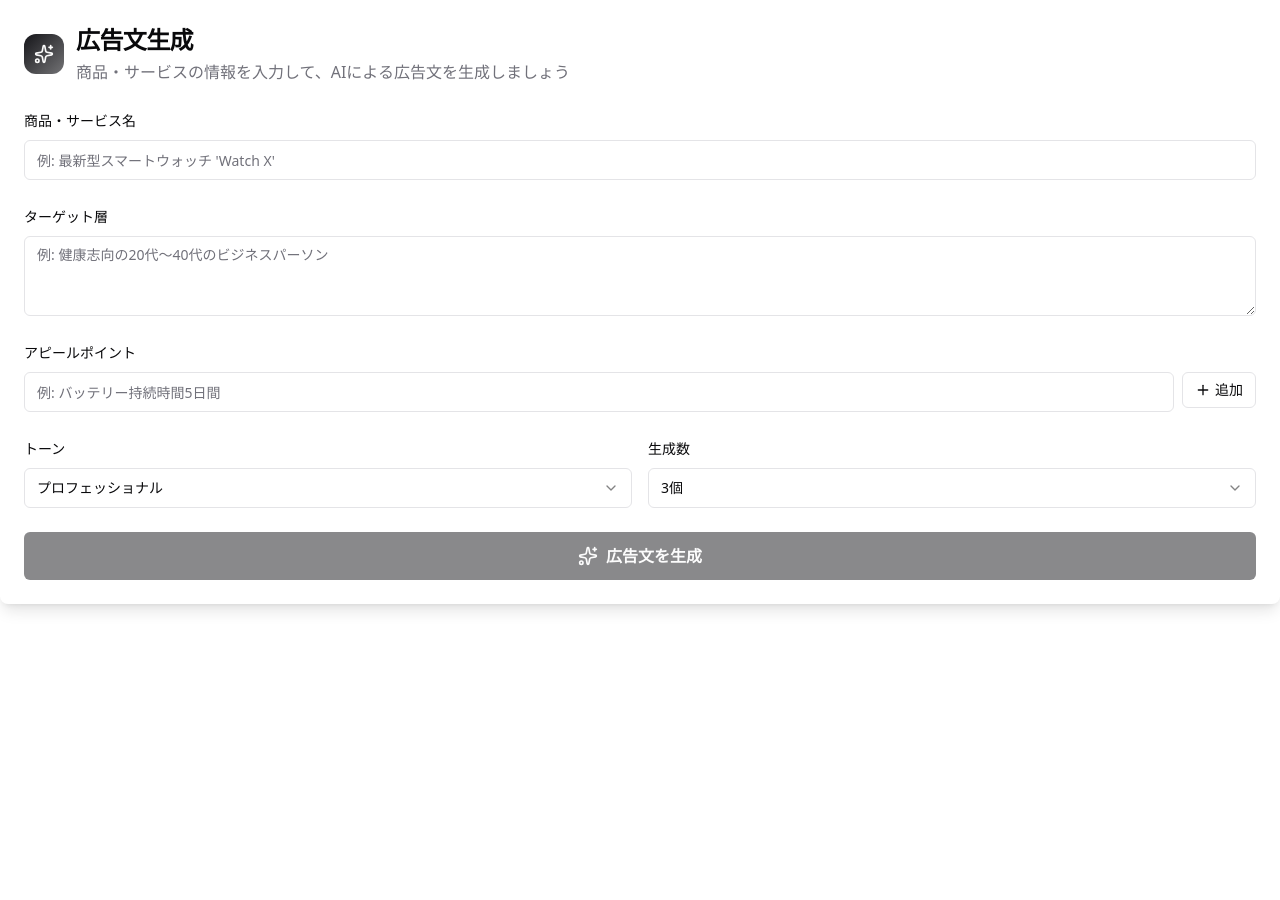
Test: AdGenerationForm › enables submit button when form is valid
Type "テスト商品" into the field labelled "商品・サービス名" at (640, 160), box [24,140,1256,180]
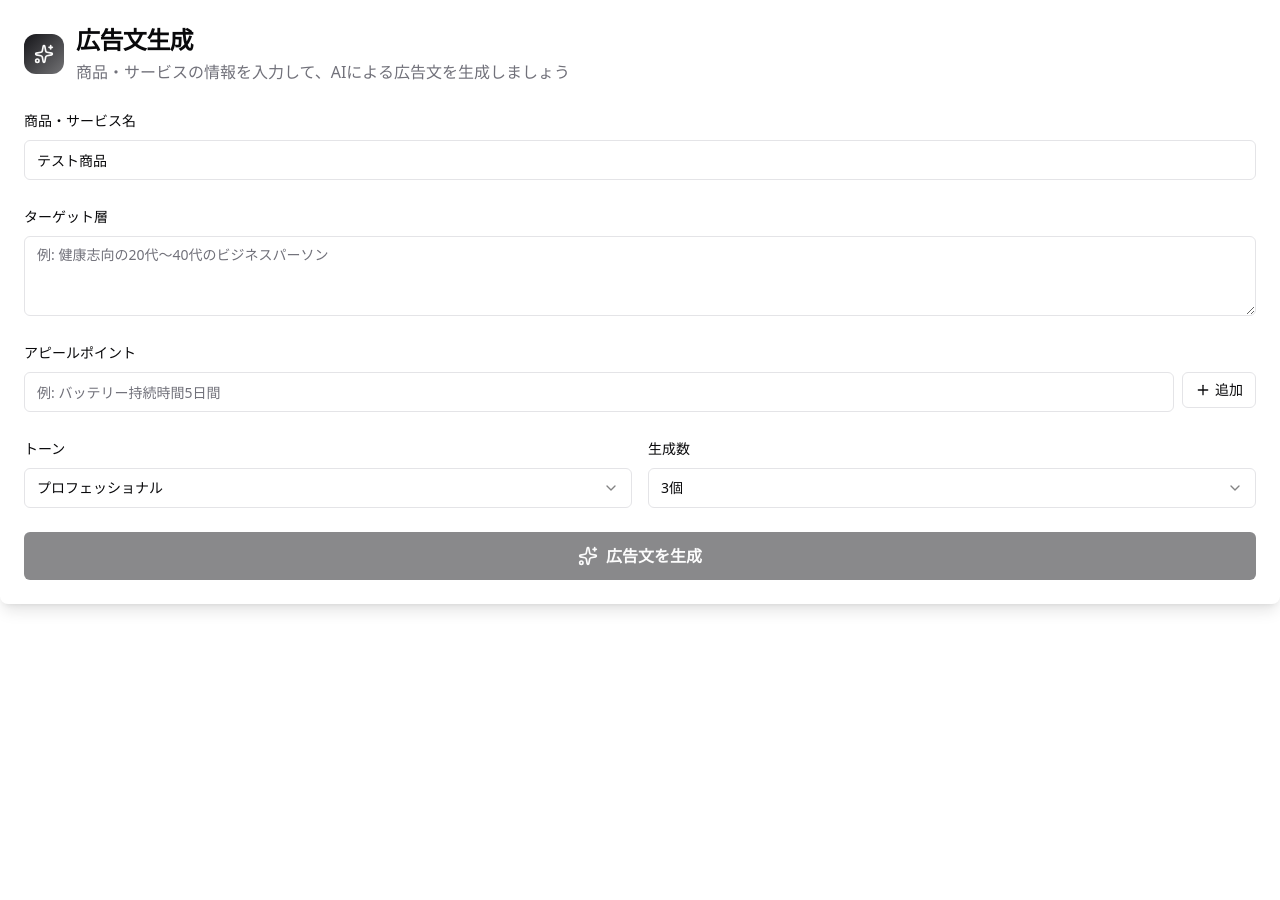
Type "テストターゲット" into the text box labelled "ターゲット層" at (640, 276), box [24,236,1256,316]
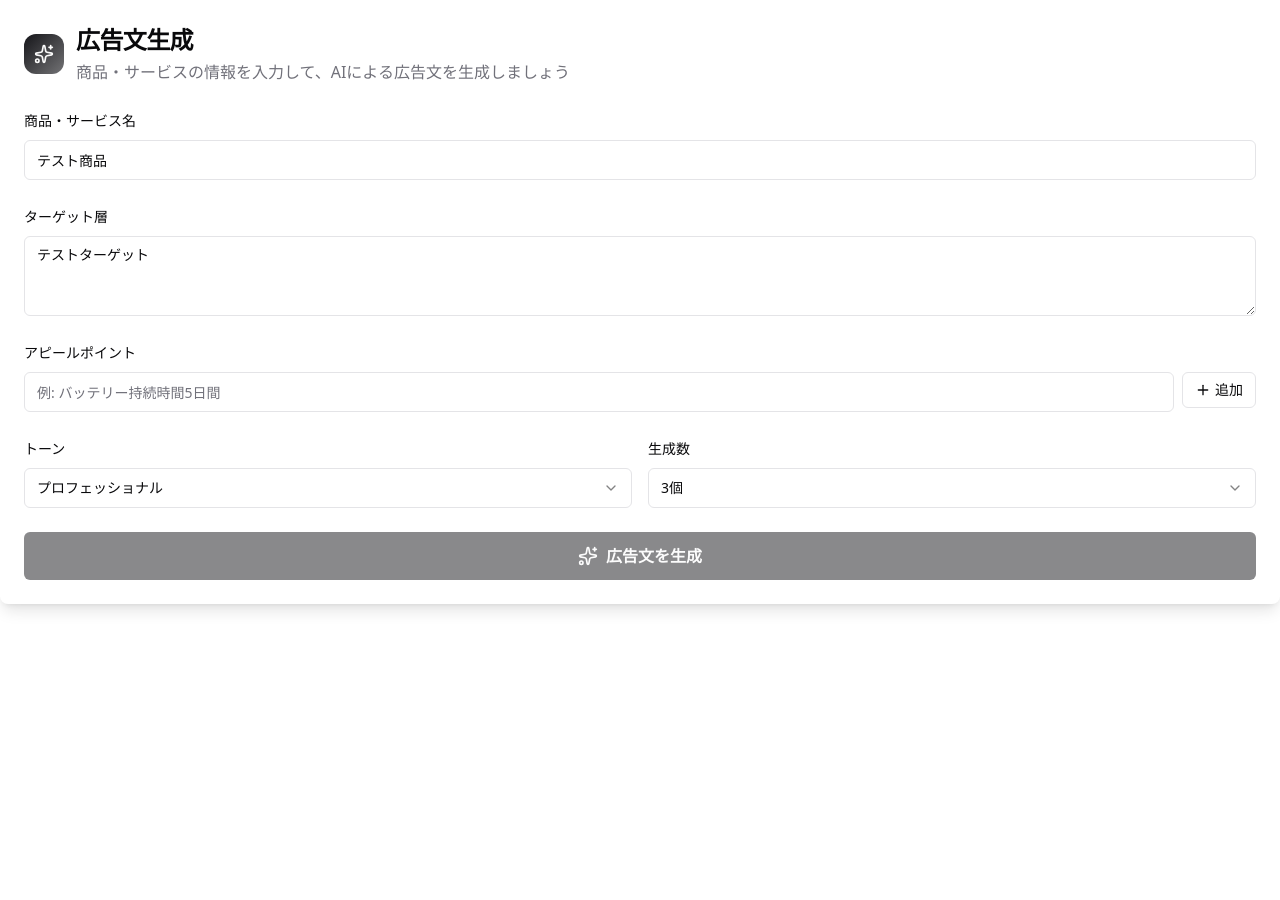
Type "テストポイント" into the field labelled "アピールポイント" at (599, 392), box [24,372,1174,412]
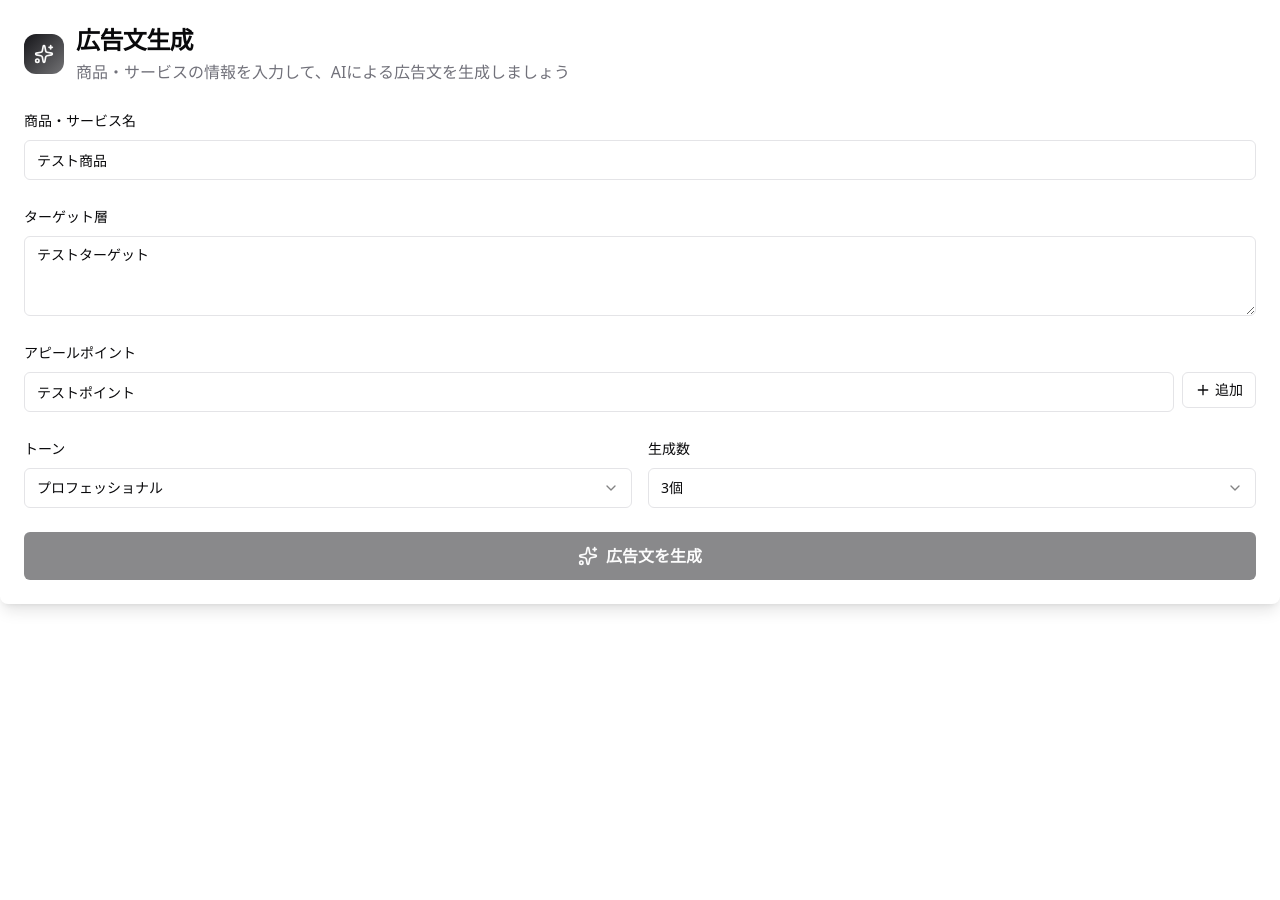
Click the button "追加" at (1219, 390), box [1182,372,1256,408]
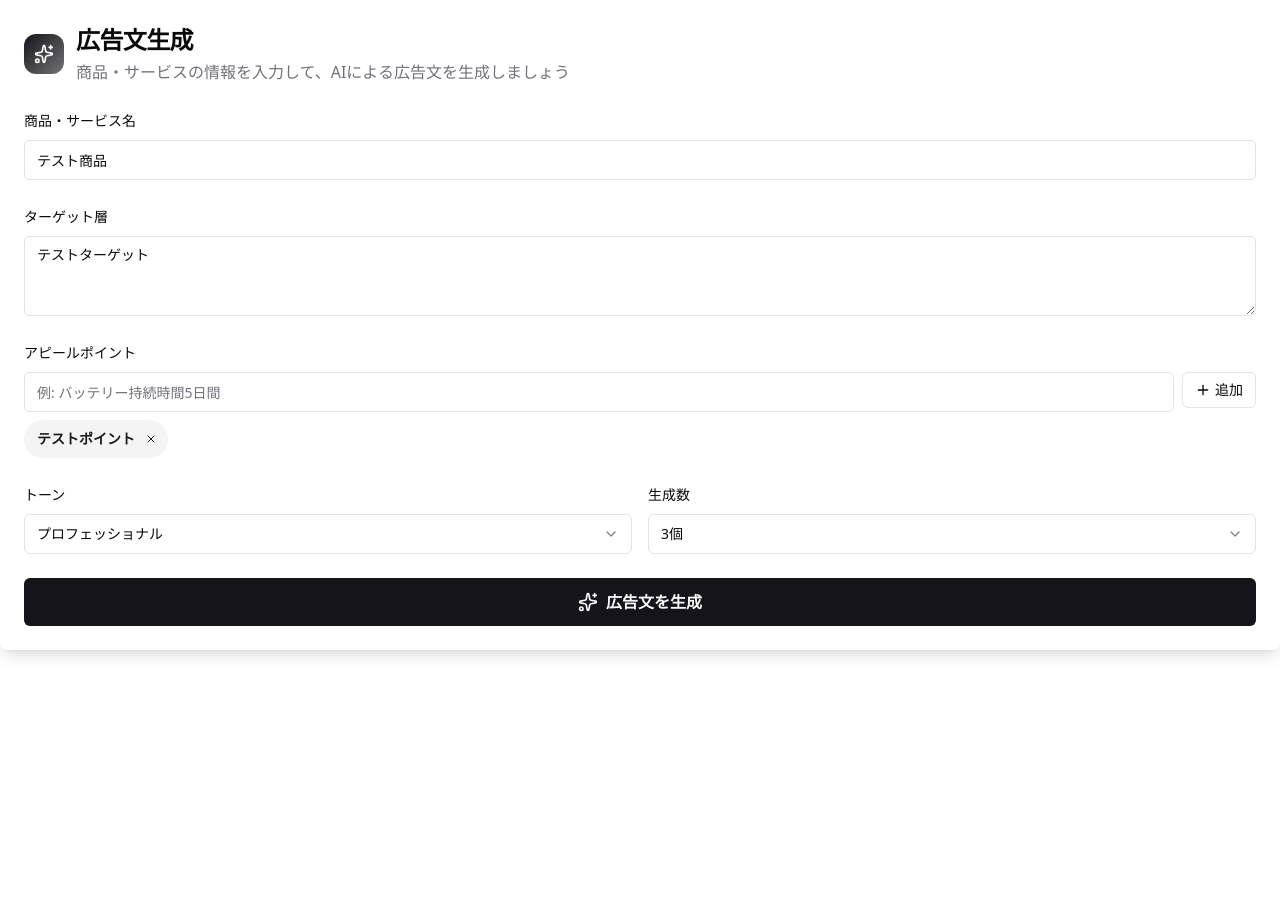
Expected: the button "広告文を生成" is enabled, [24,578,1256,626]
